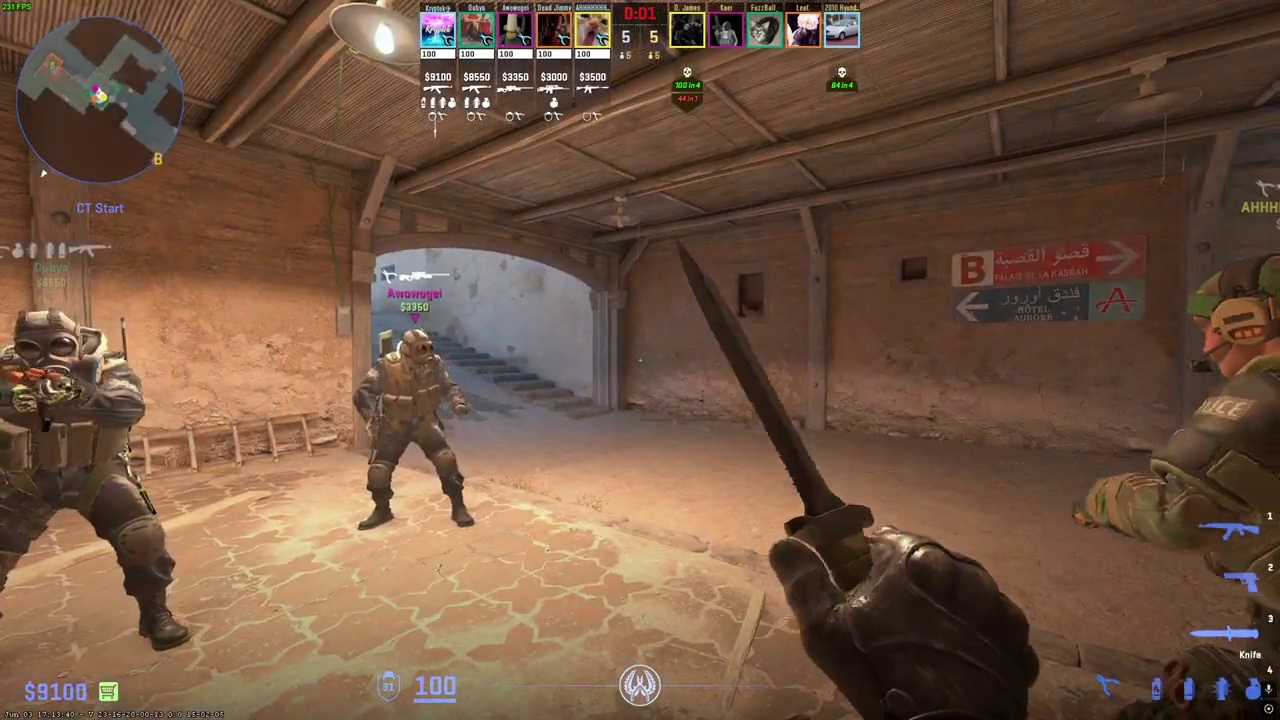CT: (0, 308, 176, 652), (1150, 255, 1280, 720), (353, 327, 475, 530)
